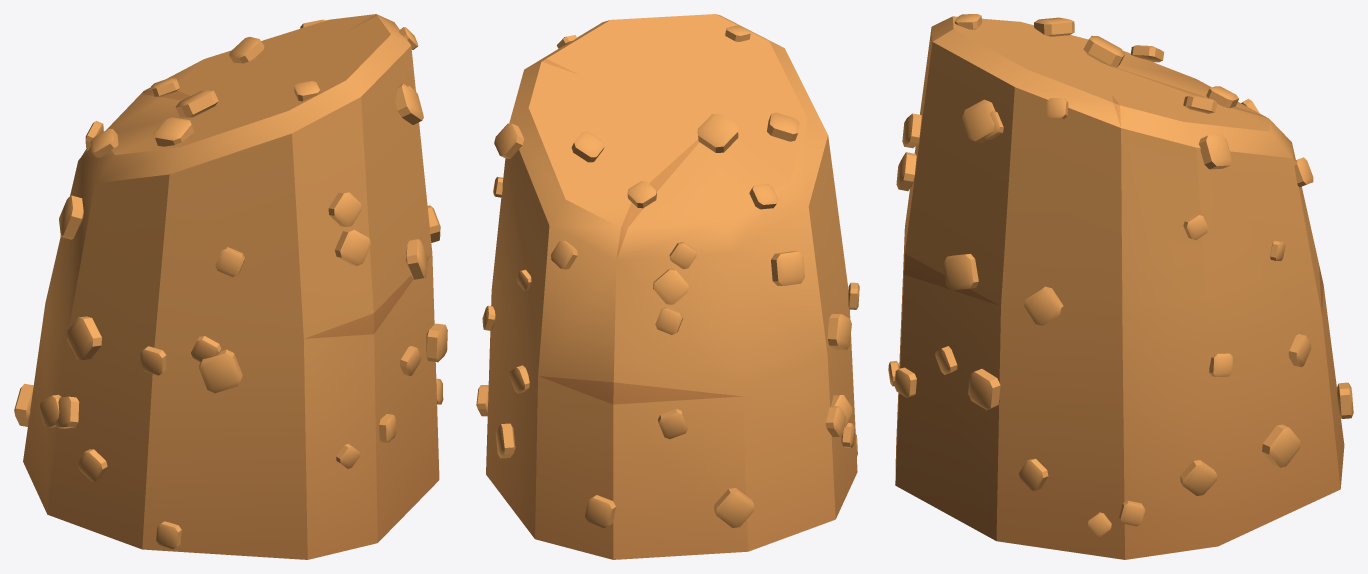
Rendered from GoldSource3.fbx.
The picture shows the model from 3 angles, left to right: view 1: azimuth 30°, elevation 25°; view 2: azimuth 150°, elevation 25°; view 3: azimuth 270°, elevation 25°; orthographic projection. The views are drawn at different scales.
Visible parts, largest first — view 1: GoldSource3_LOD0; view 2: GoldSource3_LOD0; view 3: GoldSource3_LOD0.
Boxes of the visible parts, x1,y1,x2,y2 form: GoldSource3_LOD0: (14,14,447,559); GoldSource3_LOD0: (476,14,859,559); GoldSource3_LOD0: (888,14,1353,559).
Size of what is drawn, in the model's own units: 1.72 by 1.93 by 1.78.
